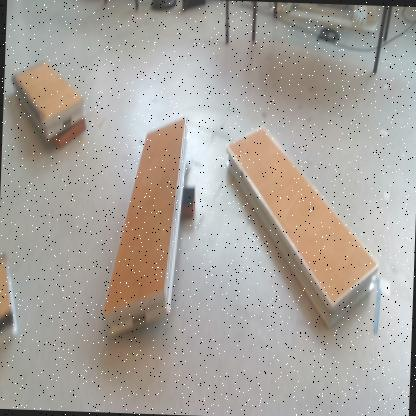Stairs: (227, 126, 382, 335), (103, 118, 190, 339), (14, 59, 87, 144), (1, 253, 20, 350)
